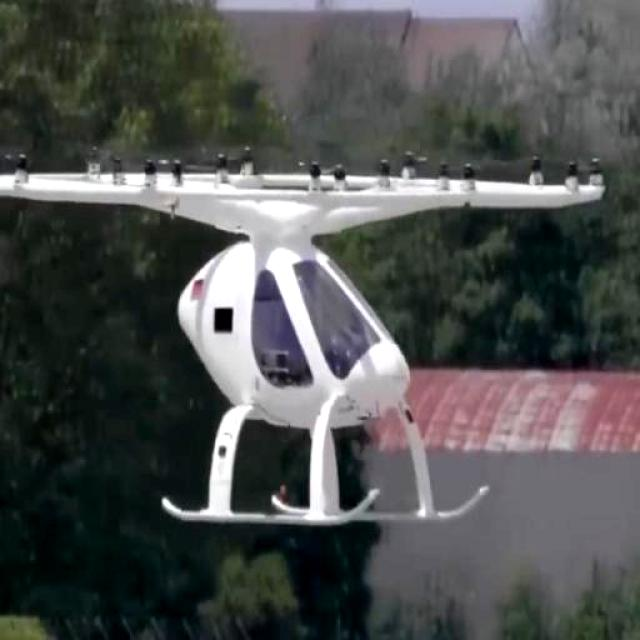drone: (0, 138, 606, 545)
